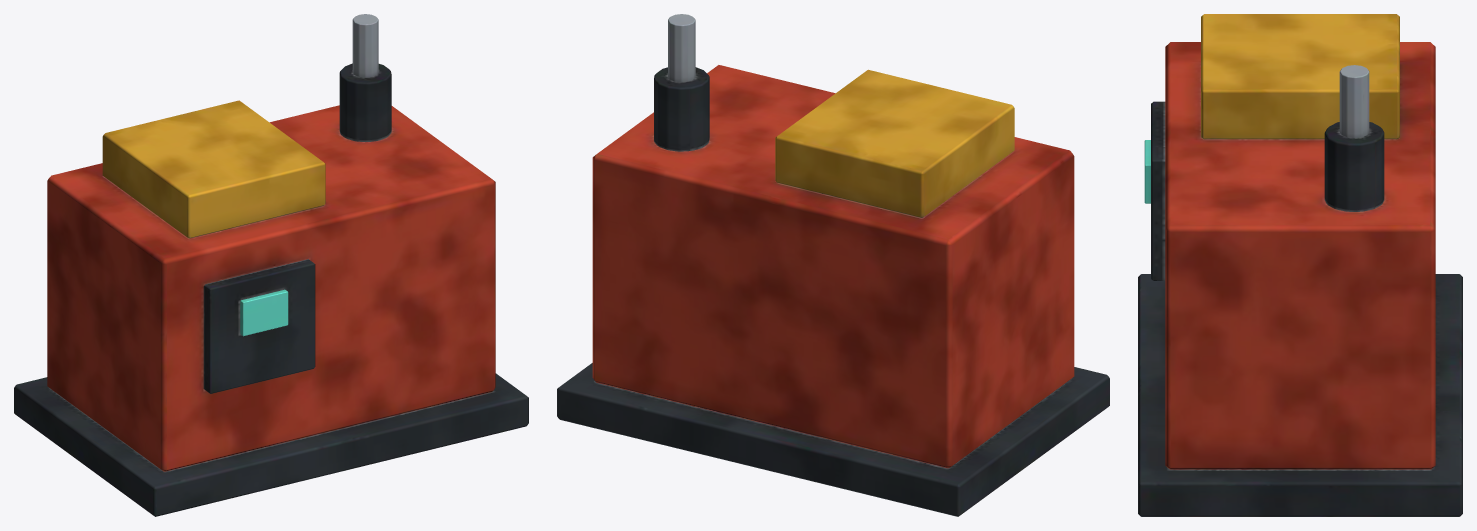
Rendered from generator_industrial.glb.
3 renders of one model, left to right at view 1: azimuth 30°, elevation 25°; view 2: azimuth 150°, elevation 25°; view 3: azimuth 270°, elevation 25°, orthographic. The views are drawn at different scales.
Visible parts, largest first — view 1: GeneratorIndustrial; view 2: GeneratorIndustrial; view 3: GeneratorIndustrial.
Part boxes in pixels (box(x1,y1,x2,y2)): GeneratorIndustrial: box(14, 14, 528, 516); GeneratorIndustrial: box(557, 14, 1109, 516); GeneratorIndustrial: box(1138, 14, 1462, 516).
Size of the model in its own units: 2.3 by 2.08 by 1.5.
Materials: 1 (1 with a texture image).
